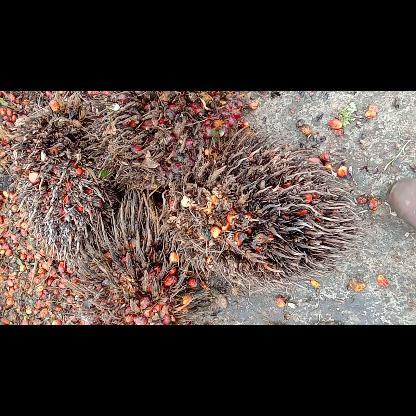Terlalu masak: (155, 124, 369, 292), (0, 90, 127, 266), (56, 186, 216, 324), (84, 90, 244, 198)
